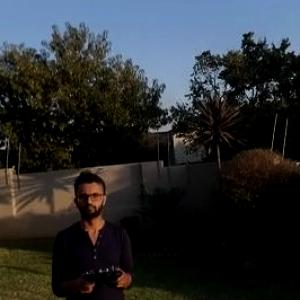follow: (47, 165, 141, 299)
